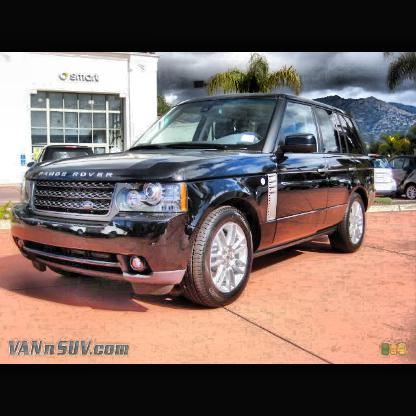Land Rover Range Rover SUV 2012: (9, 93, 377, 309)
